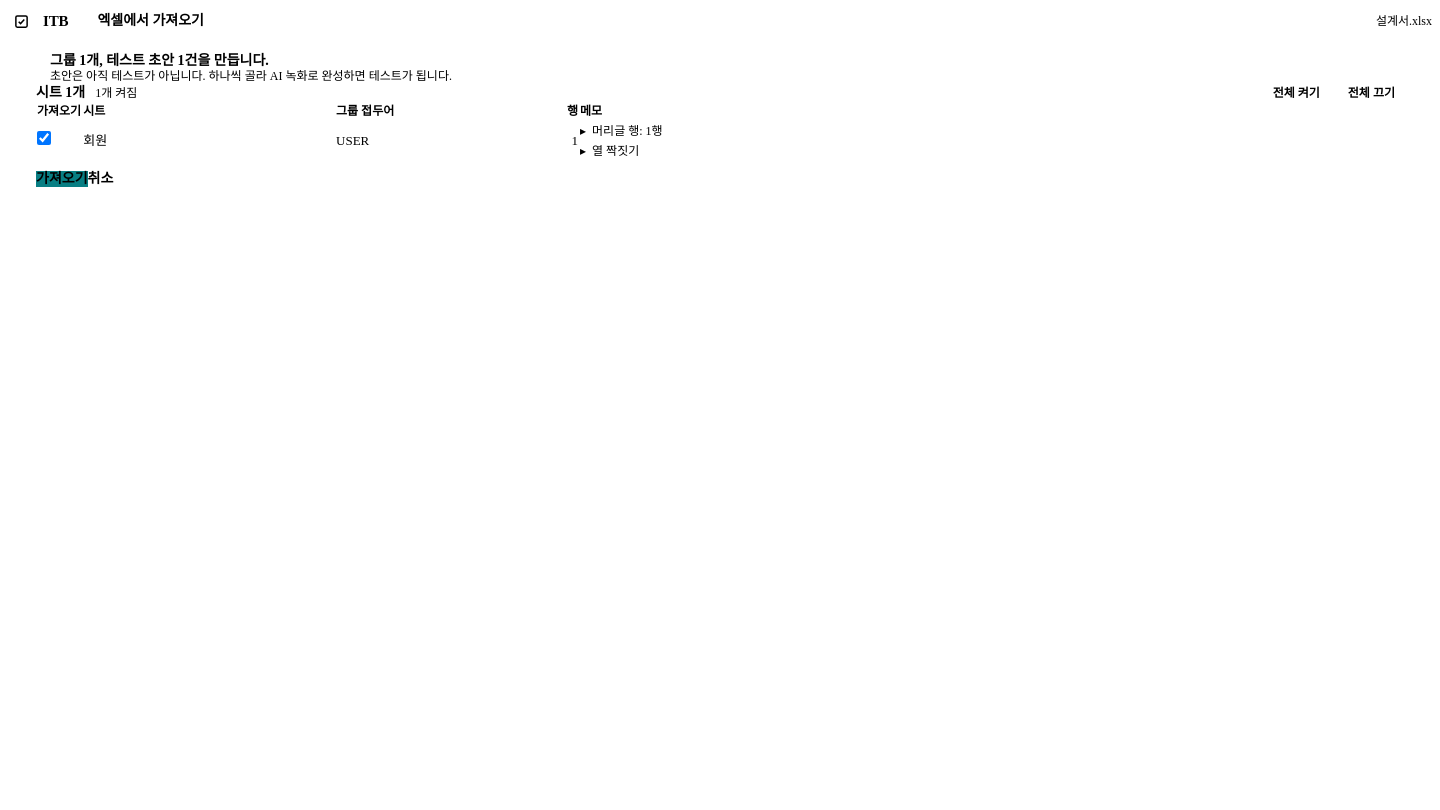
Scenario: 확정이 막힐 때 › 수용량이 넘치면 무엇을 하면 되는지 말한다
Click the button "가져오기".
click(62, 179)  # box [36, 171, 88, 187]
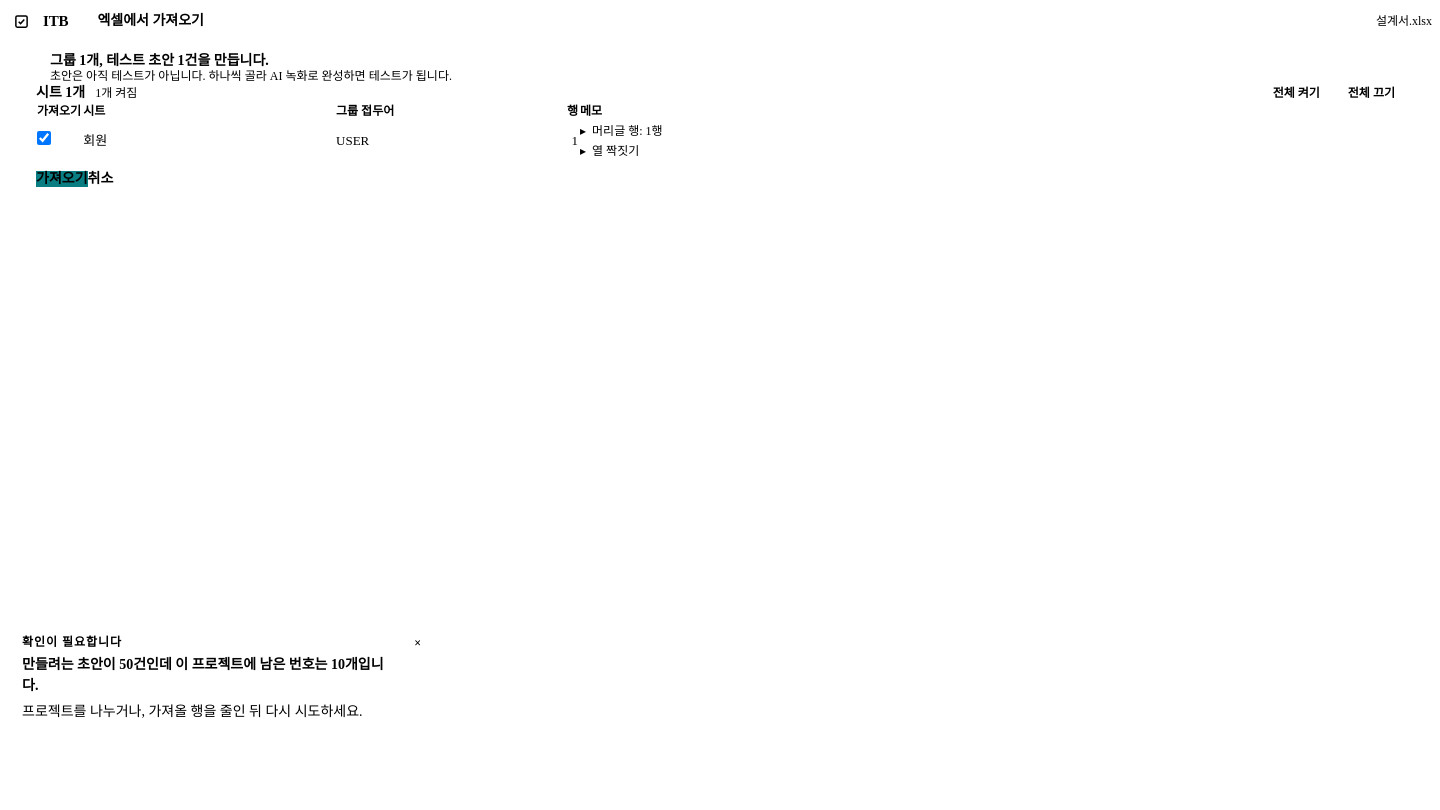
Result: the text "만들려는 초안이 50건인데 이 프로젝트에 남은 번호는 10개입니다." is shown at [22, 654, 393, 696]
Result: the text "프로젝트를 나누거나, 가져올 행을 줄인 뒤 다시 시도하세요." is shown at [22, 702, 393, 722]
